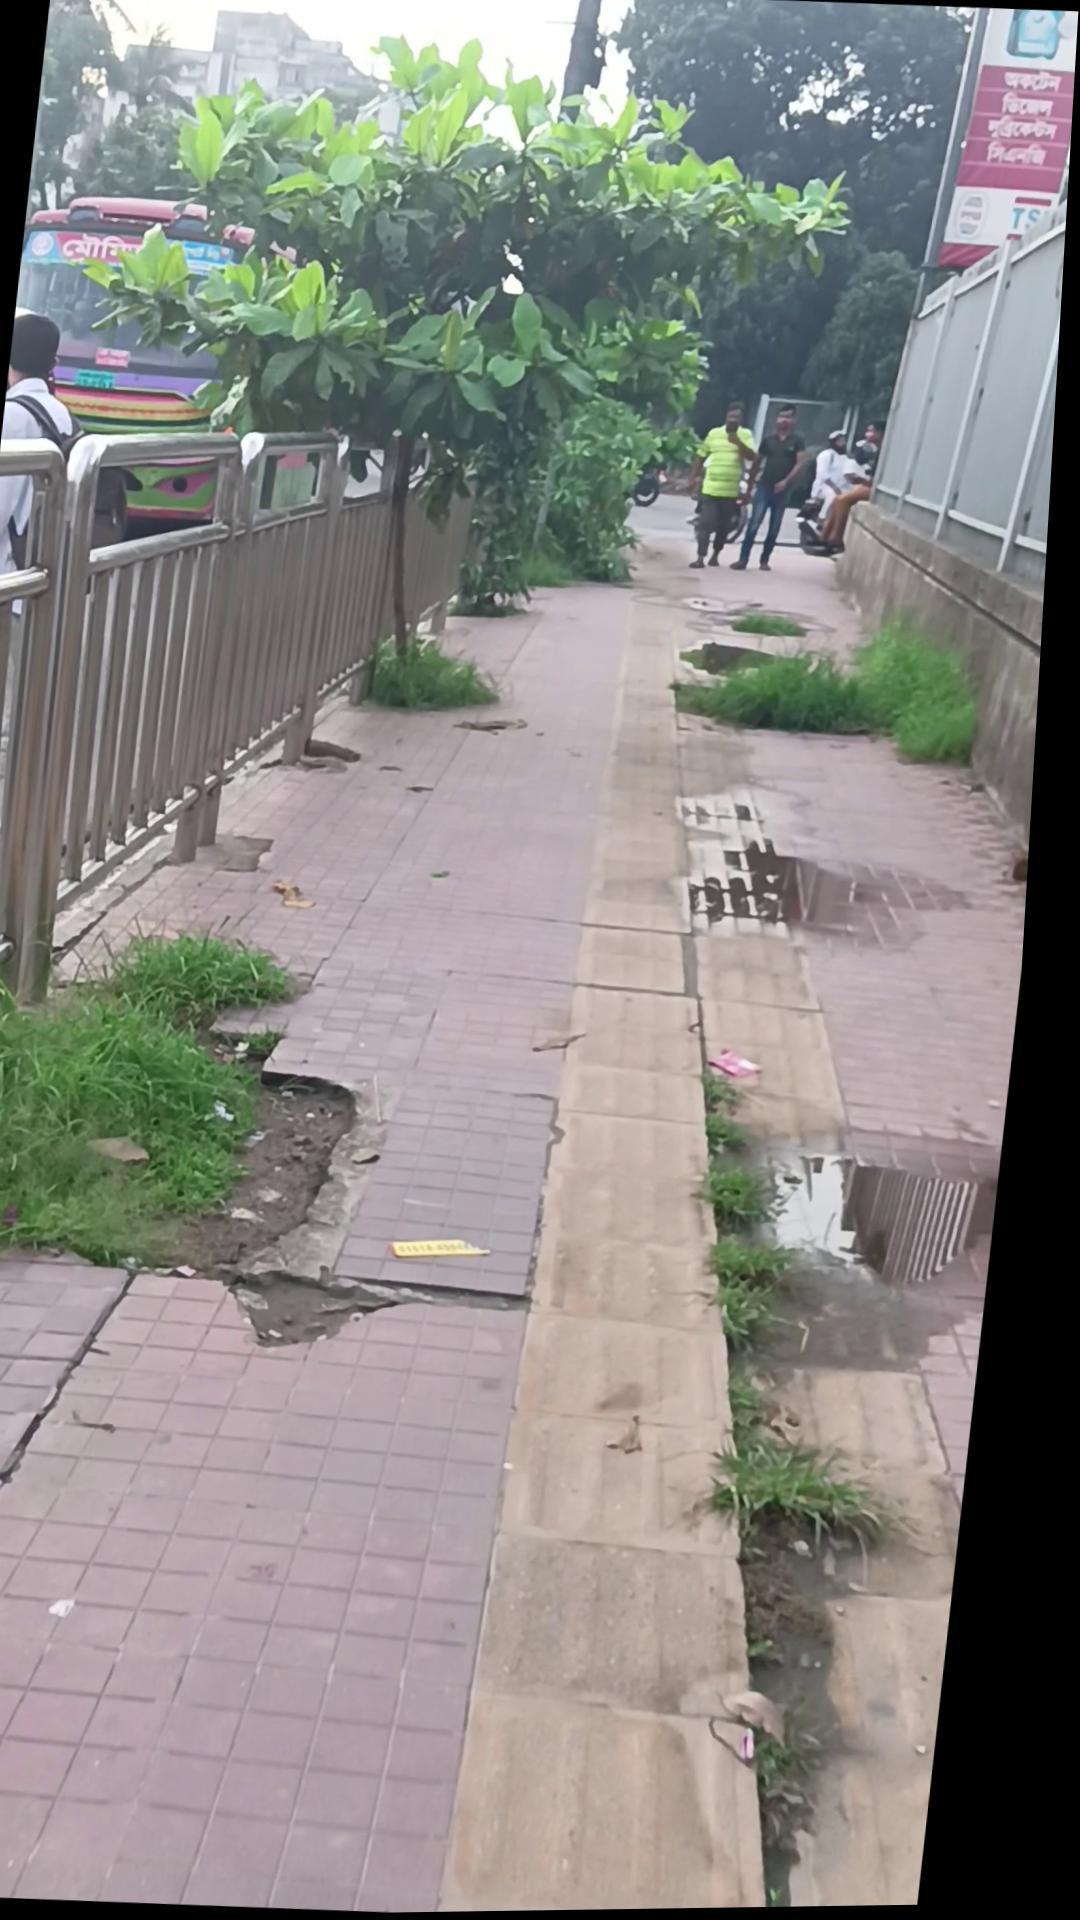Muddy road: (0, 309, 100, 869), (684, 400, 767, 572), (733, 404, 816, 575), (807, 429, 880, 558)
Potted-plant: (0, 533, 1055, 1920)
Railroad-crossing: (756, 1109, 1019, 1305), (665, 765, 907, 947)
